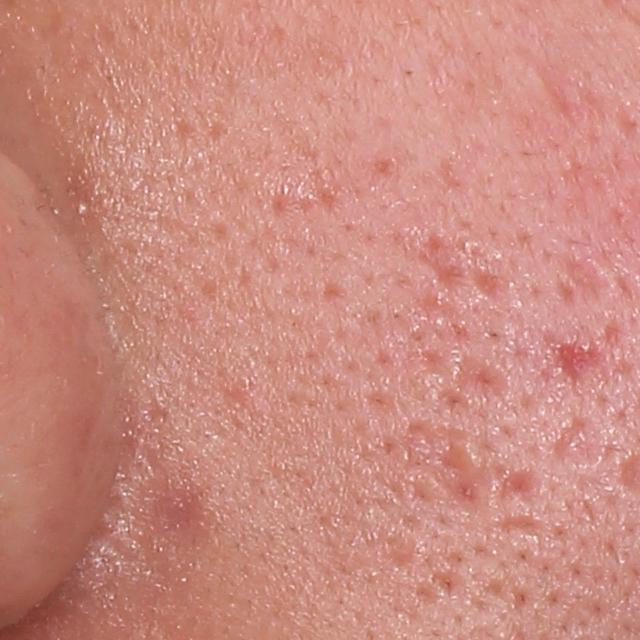atrophic_scar: (443, 445, 503, 519), (447, 342, 514, 408), (415, 230, 468, 298), (557, 333, 608, 396), (562, 250, 612, 305), (493, 507, 553, 536), (493, 465, 544, 497), (467, 266, 505, 304)
